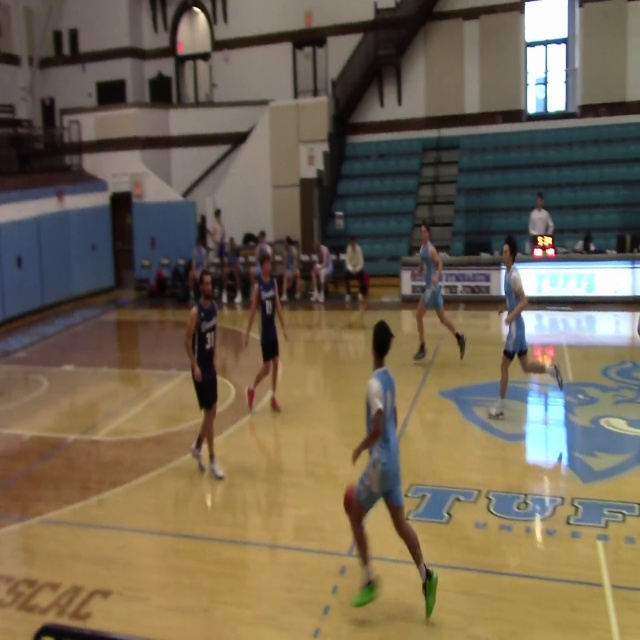Basketball: (343, 484, 359, 516), (510, 270, 523, 293)
